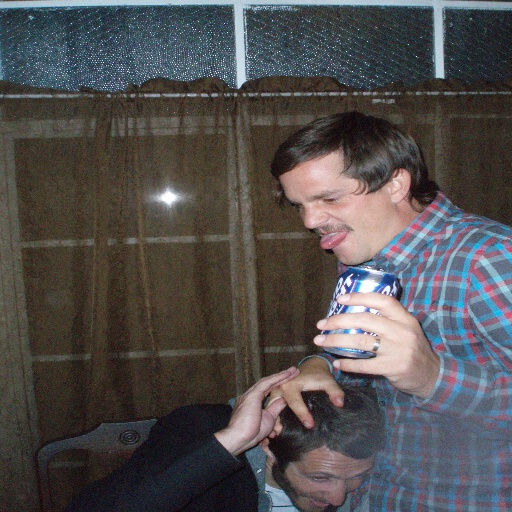hand: (309, 284, 436, 389), (224, 365, 300, 450), (266, 363, 346, 440)
